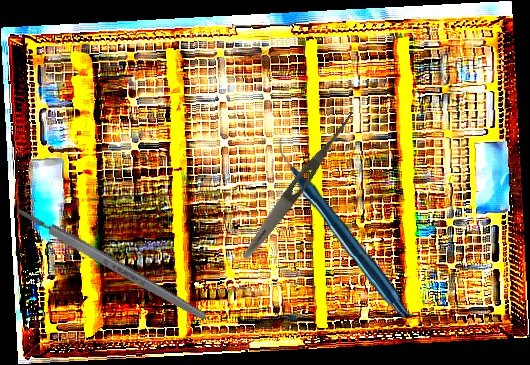Dressing Forceps: (238, 107, 359, 263)
Handpiece: (276, 133, 411, 321)
Scalpel Handle: (14, 204, 209, 324)
